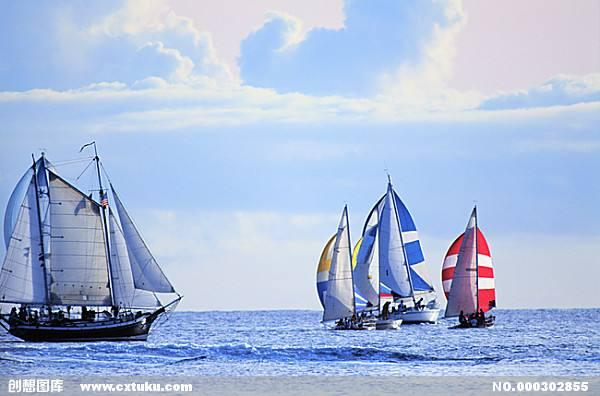fanchuan: (2, 140, 183, 342), (316, 166, 441, 327), (444, 200, 505, 330)
